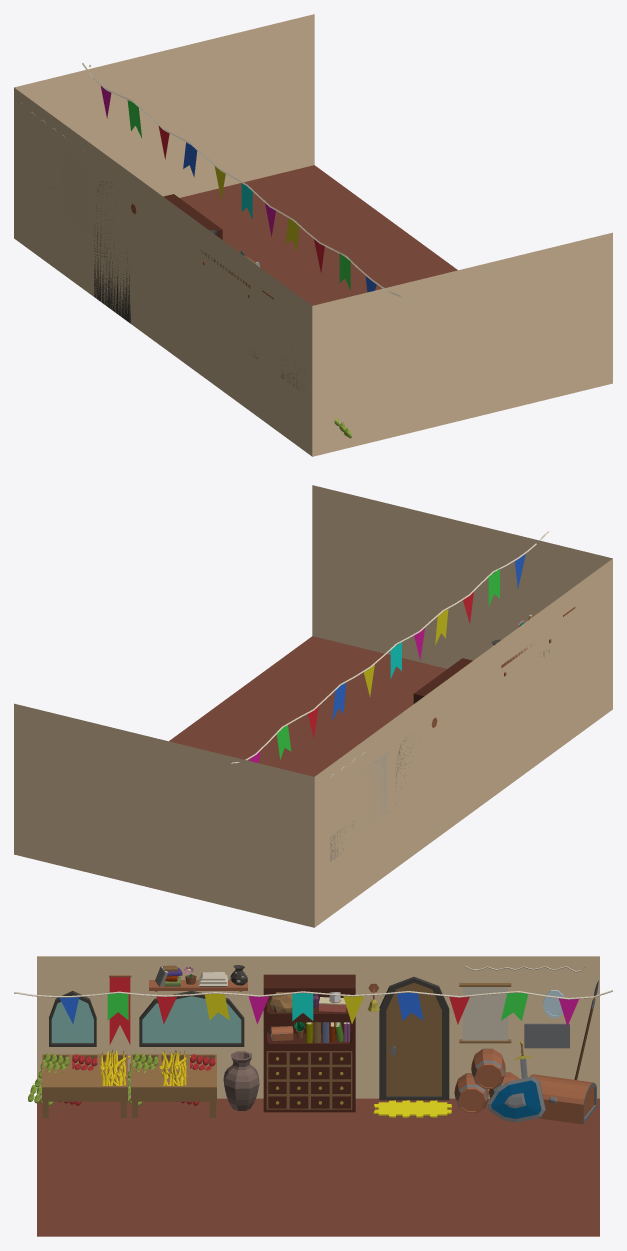
The model's file is levelbg.fbx.
3 views of the same model, one above another, from view 1: azimuth 30°, elevation 25°; view 2: azimuth 150°, elevation 25°; view 3: azimuth 270°, elevation 25° (orthographic). The views are drawn at different scales.
Visible parts, largest first — view 1: Cube, Cube.019, Cube.046, Plane; view 2: Cube, Cube.046, Plane, Cube.022; view 3: Cube, Cube.022, Cube.019, Cube.023, Cube.044, Cube.020, Plane, Cube.039, Cube.069, Cube.049, Cube.043, Cube.046 (+16 smaller).
Boxes of the visible parts, box(x1,y1,x2,y2) form: Cube: box(14, 14, 612, 456); Cube.019: box(94, 181, 130, 323); Cube.046: box(82, 63, 402, 297); Plane: box(62, 155, 88, 231); Cube: box(14, 485, 612, 927); Cube.046: box(231, 531, 548, 763); Plane: box(361, 751, 388, 830); Cube.022: box(413, 658, 472, 703); Cube: box(37, 956, 599, 1236); Cube.022: box(263, 974, 355, 1112); Cube.019: box(379, 976, 449, 1100); Cube.023: box(139, 991, 244, 1046); Cube.044: box(131, 1054, 216, 1117); Cube.020: box(42, 1054, 127, 1117); Plane: box(459, 983, 511, 1043); Cube.039: box(529, 1074, 596, 1124); Cube.069: box(49, 991, 96, 1046); Cube.049: box(487, 1076, 545, 1122); Cube.043: box(223, 1051, 259, 1110); Cube.046: box(14, 990, 612, 999).
Bounding box in the file's own units: 501 × 244 × 916.
